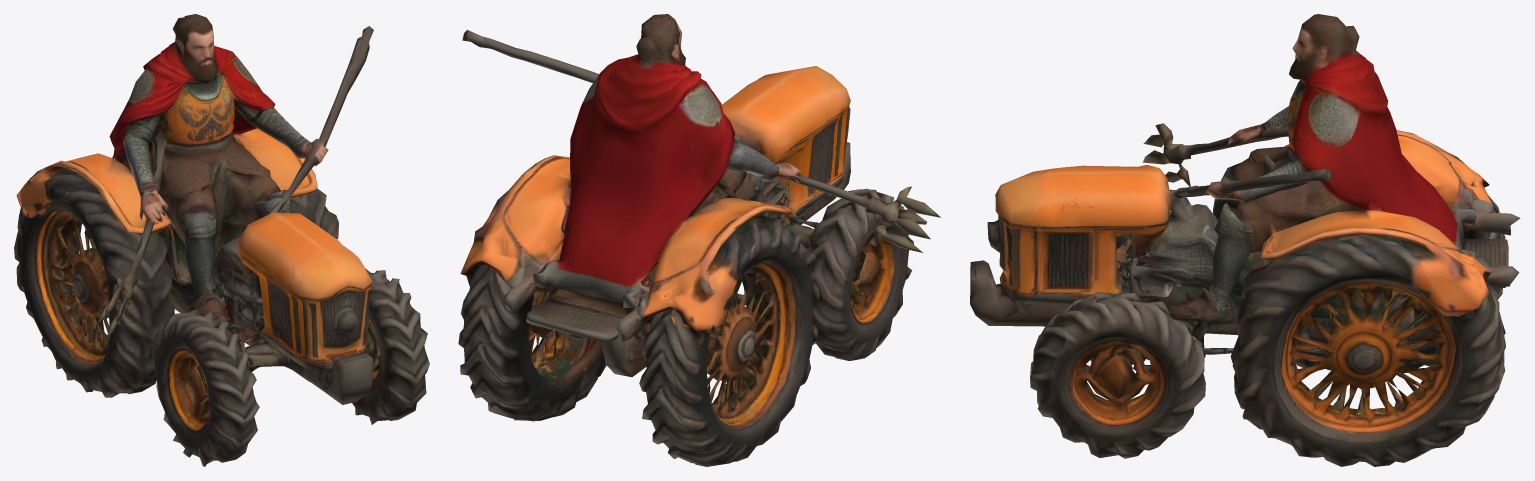
File: heavy.glb
The picture shows the model from 3 angles, left to right: view 1: azimuth 30°, elevation 25°; view 2: azimuth 150°, elevation 25°; view 3: azimuth 270°, elevation 25°; orthographic projection. The views are drawn at different scales.
Visible parts, largest first — view 1: Mesh_0; view 2: Mesh_0; view 3: Mesh_0.
Part boxes in pixels (x1,y1,x2,y2): Mesh_0: [14, 14, 429, 466]; Mesh_0: [458, 14, 940, 466]; Mesh_0: [970, 14, 1520, 466].
Bounding box in the file's own units: 1.56 × 1.54 × 1.92.
1 material, 1 textured.
